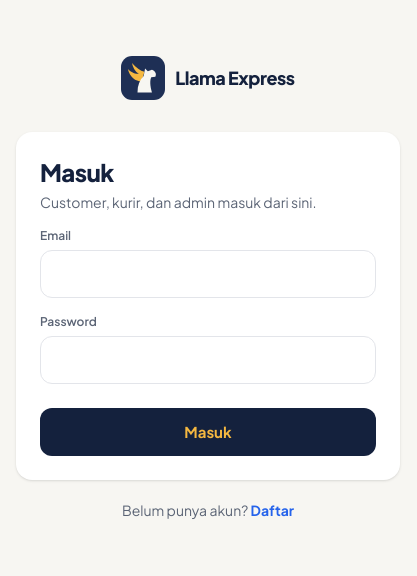
Test: LoginPage › error jaringan → pesan koneksi
The width and height of the screenshot is (417, 576).
Step 1. Type "budi@mail.com" into the field labelled "Email" → coordinates (208, 274), box 40,250 -> 376,298
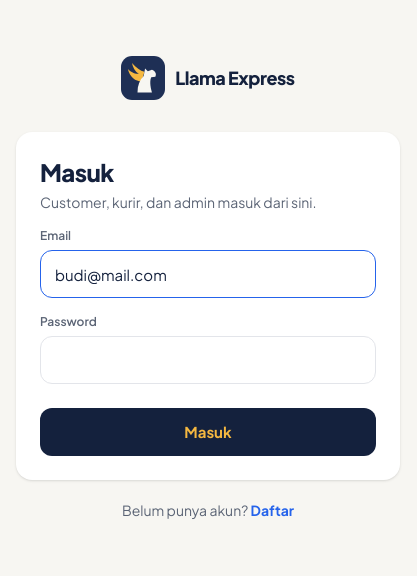
Step 2. Type "rahasia123" into the password field labelled "Password" → coordinates (208, 360), box 40,336 -> 376,384
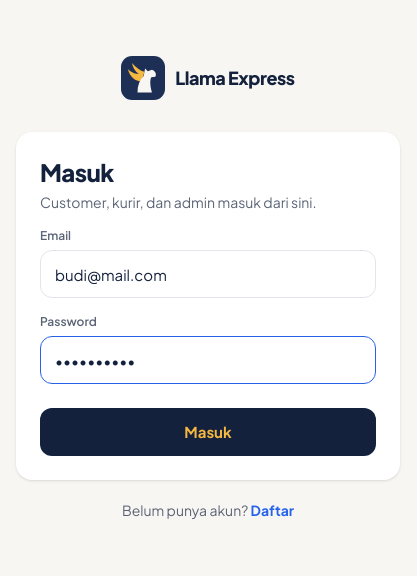
Step 3. Click the button "Masuk" → coordinates (208, 432), box 40,408 -> 376,456
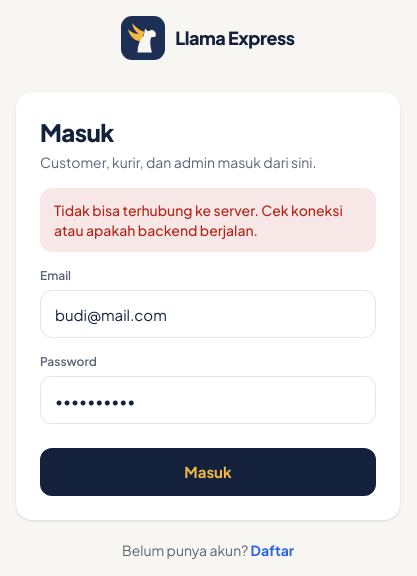
Now the text "Tidak bisa terhubung ke server. Cek koneksi atau apakah backend berjalan." is shown, box 40,188 -> 376,252
